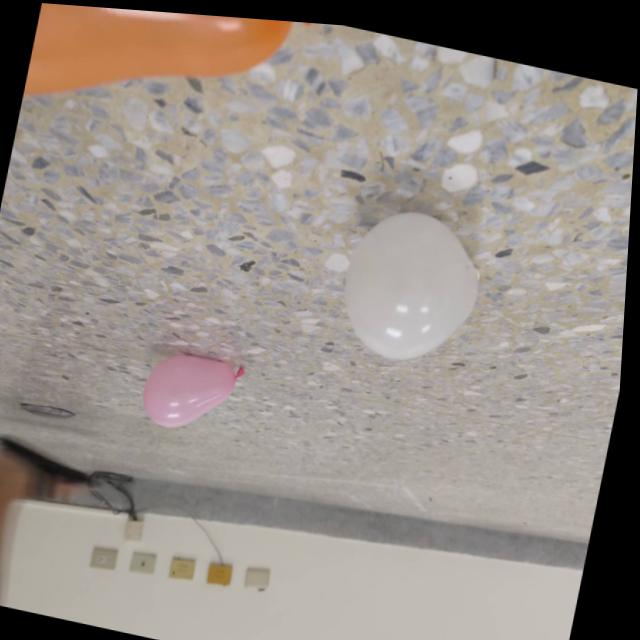other: (22, 2, 314, 153), (333, 192, 497, 371), (142, 341, 252, 440)
